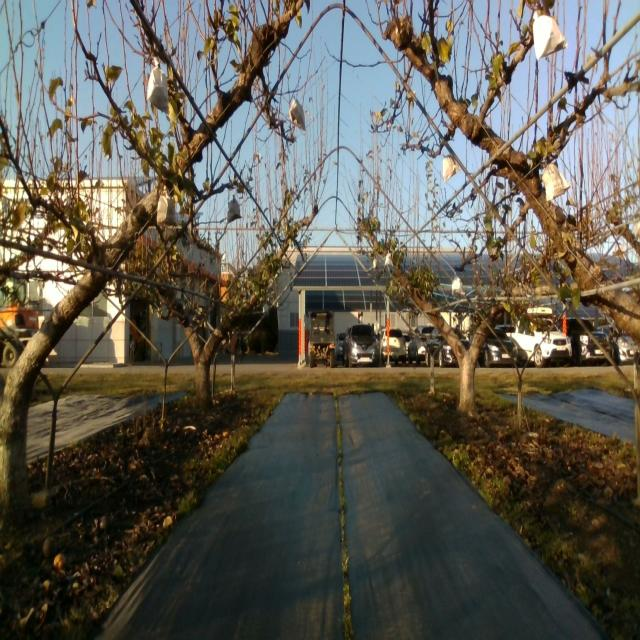pearbags: (531, 10, 567, 63), (146, 56, 170, 113), (542, 163, 570, 204), (157, 184, 177, 225), (441, 153, 460, 183), (289, 98, 306, 130), (227, 195, 243, 222), (451, 270, 465, 296)
